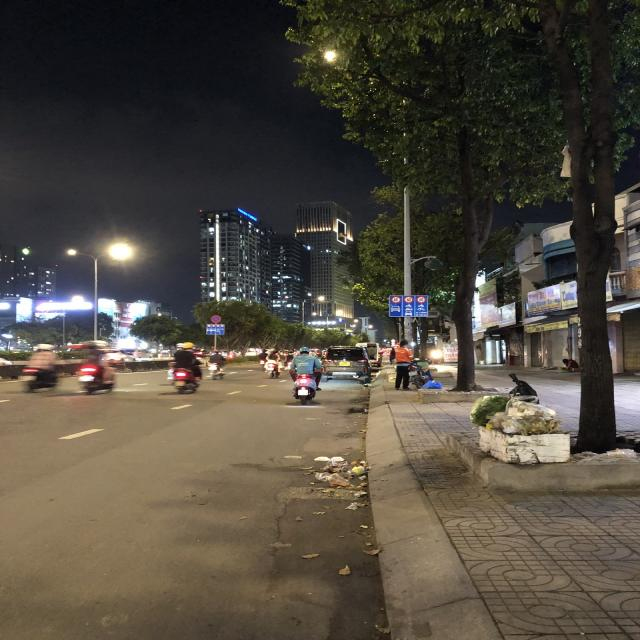Bien bao cam dung xe va do xe: (210, 314, 223, 324)
Bien bao toc do toi da cho phep: (391, 295, 402, 304), (416, 296, 427, 304), (404, 296, 413, 304)
